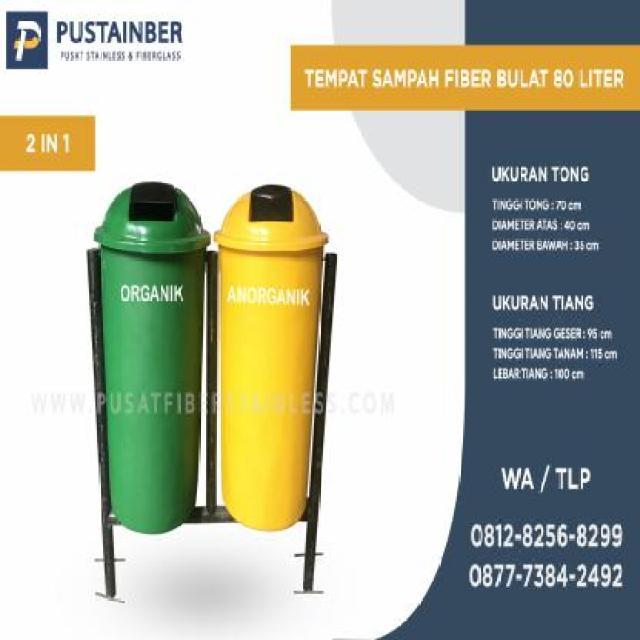garbage container: (214, 176, 347, 549), (90, 169, 216, 551)
